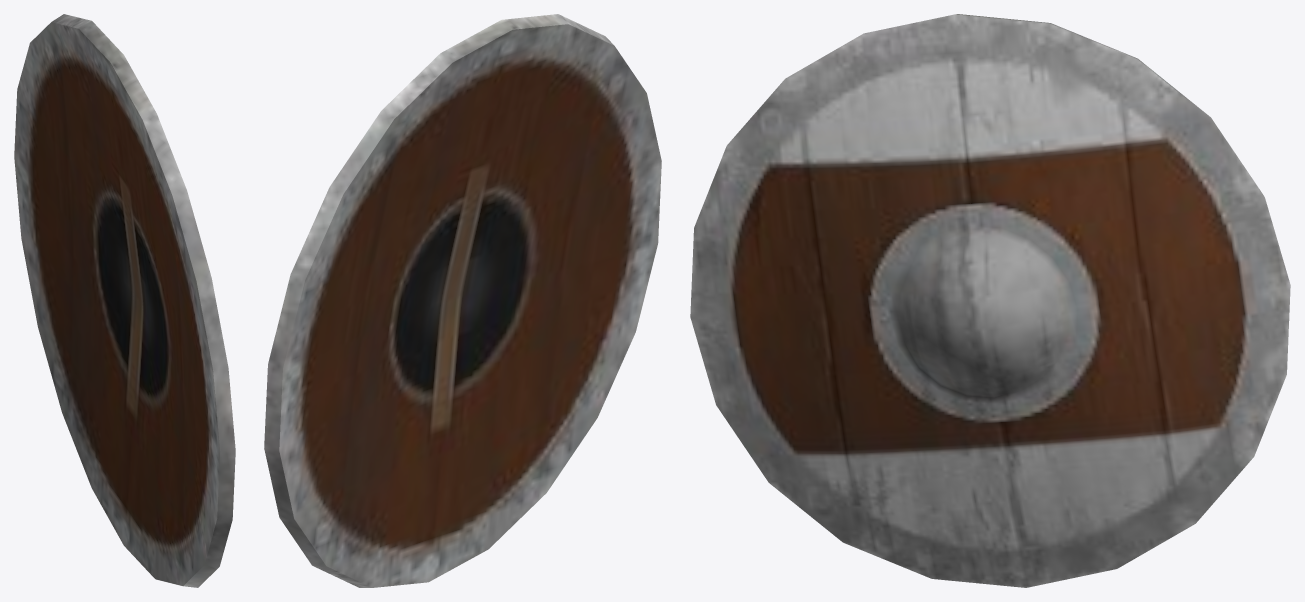
The model's file is rider-shield-slice-coppershields.glb.
3 views of the same model, side by side, from view 1: azimuth 30°, elevation 25°; view 2: azimuth 150°, elevation 25°; view 3: azimuth 270°, elevation 25° (orthographic). The views are drawn at different scales.
Size of the model in its own units: 0.1255 by 0.4924 by 0.4877.
1 material, 1 textured.
